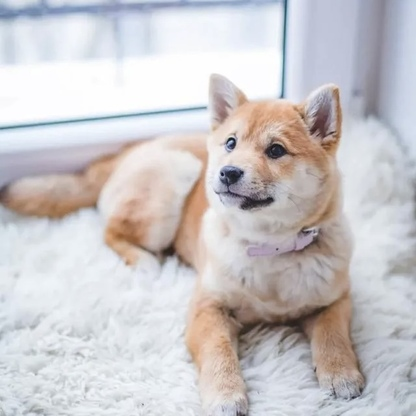shiba: (1, 65, 377, 416)
